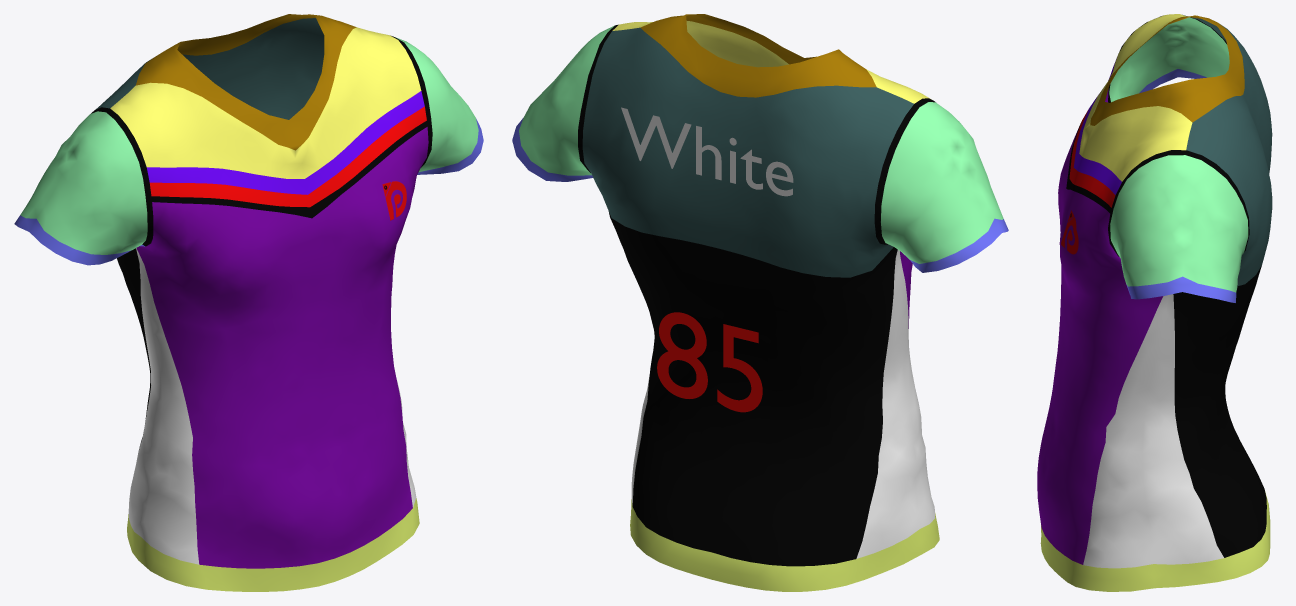
The model's file is newdesign.glb.
3 views of the same model, side by side, from view 1: azimuth 30°, elevation 25°; view 2: azimuth 150°, elevation 25°; view 3: azimuth 270°, elevation 25° (orthographic). The views are drawn at different scales.
Parts seen in each view (by area): view 1: Shirt; view 2: Shirt, Text.001, Text; view 3: Shirt, Plane.
Part boxes in pixels (x1,y1,x2,y2): Shirt: (14,14,483,591); Shirt: (512,14,1008,591); Text.001: (657,312,762,412); Text: (621,107,793,196); Shirt: (1037,14,1272,591); Plane: (1061,210,1078,254).
Size of the model in its own units: 0.5941 by 0.6309 by 0.2803.
17 materials, 1 textured.
